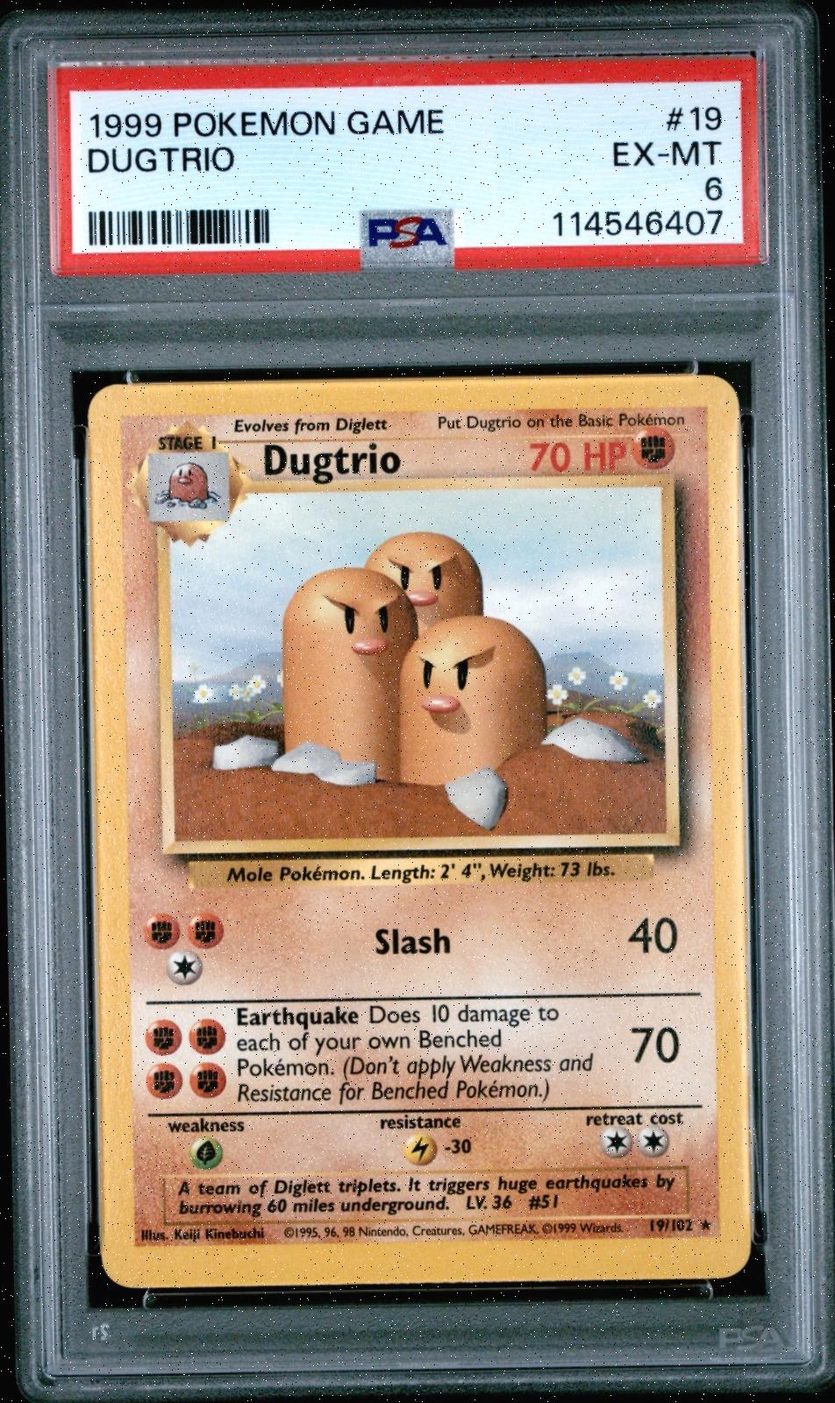card-2UtV: (86, 374, 751, 1289)
